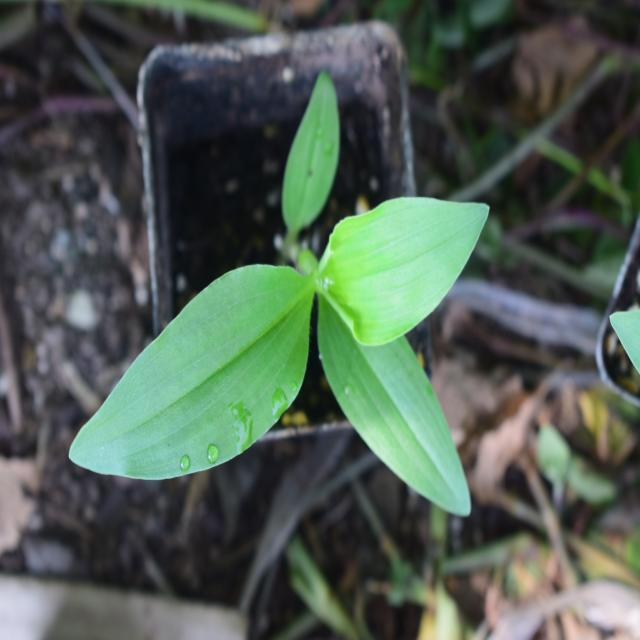Common Dayflower: (51, 136, 478, 534)
